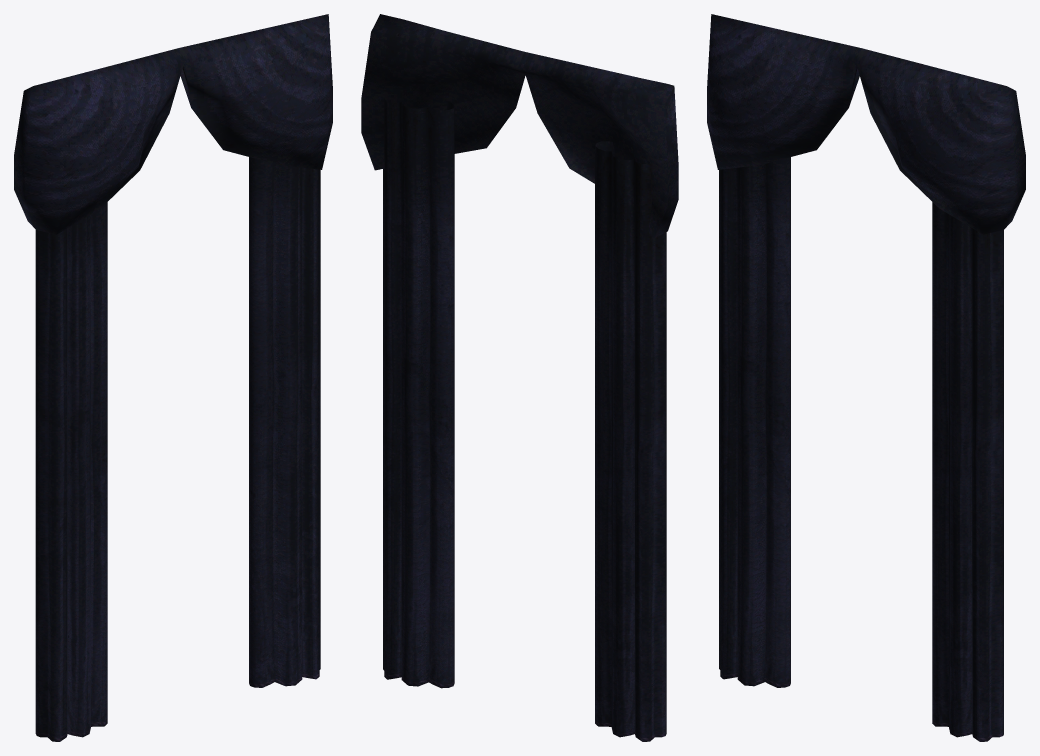
Rendered from curtain04_long.dae.
3 views of the same model, side by side, from view 1: azimuth 30°, elevation 25°; view 2: azimuth 150°, elevation 25°; view 3: azimuth 330°, elevation 25° (orthographic).
Visible parts, largest first — view 1: polySurface191; view 2: polySurface191; view 3: polySurface191.
Boxes of the visible parts, <box> form: polySurface191: <box>14,14,332,741</box>; polySurface191: <box>361,14,678,741</box>; polySurface191: <box>707,14,1025,741</box>.
Size of what is drawn, in the model's own units: 2.5 by 5.08 by 0.4673.
